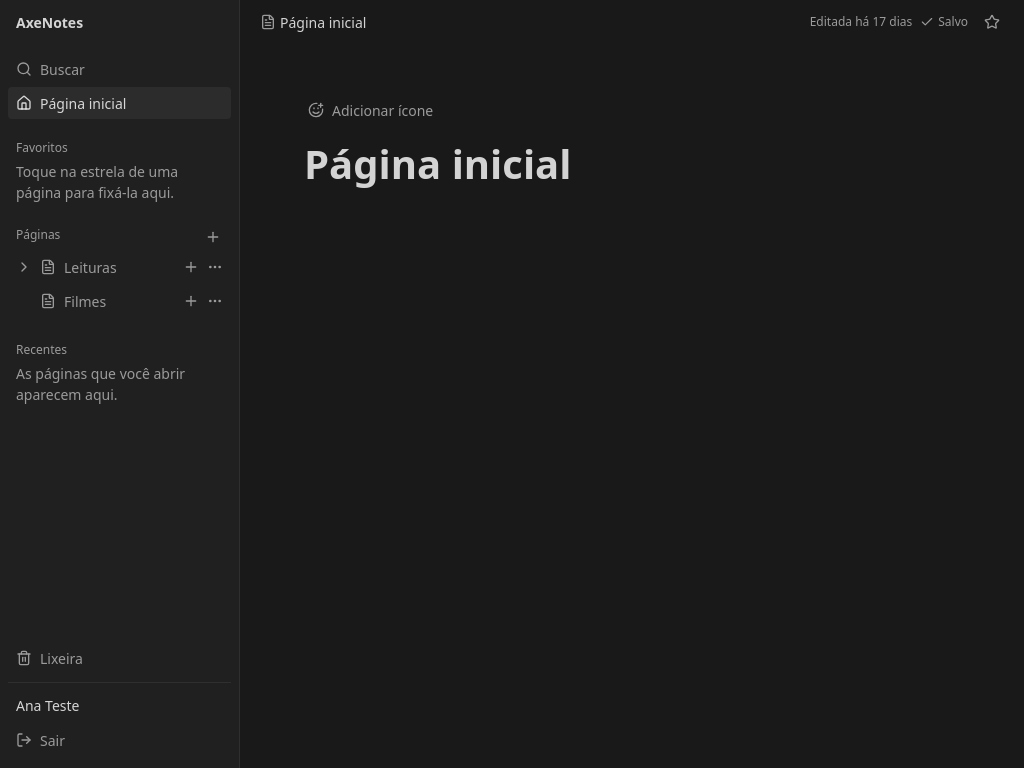
Test: mover para a lixeira pela árvore › explains missing permission with its own message
Click the button named "Mais ações de Filmes".
click(215, 301)  # box x1=203 y1=287 x2=227 y2=315
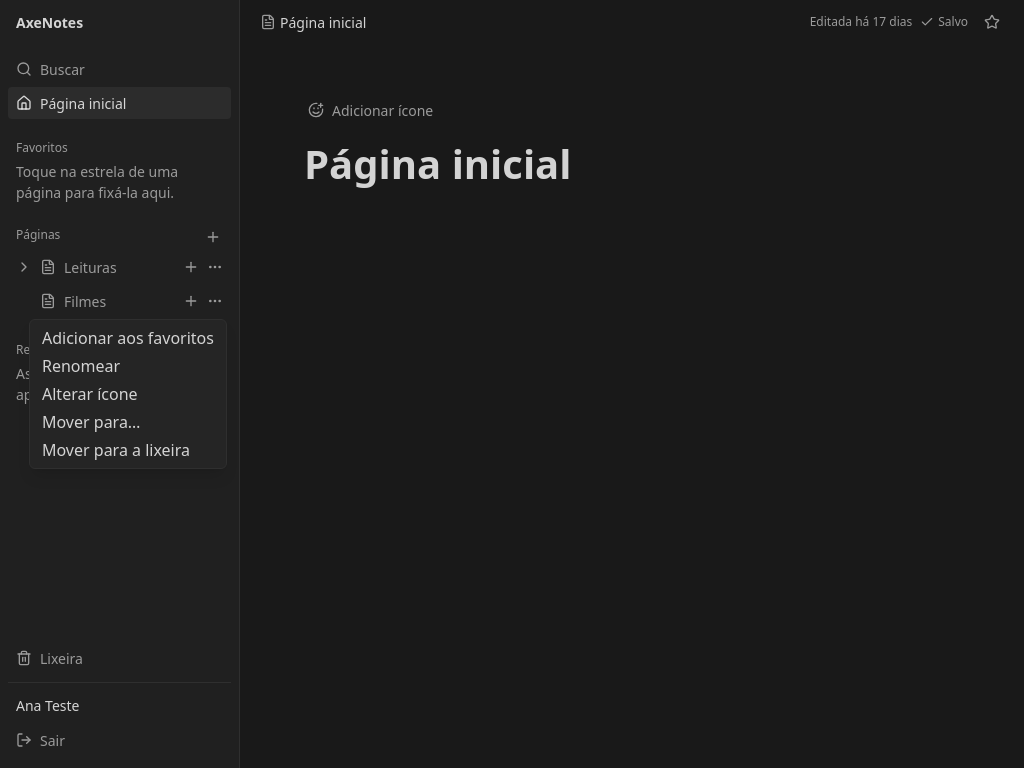
Click the menu item "Mover para a lixeira".
click(116, 450)  # box x1=42 y1=439 x2=190 y2=461
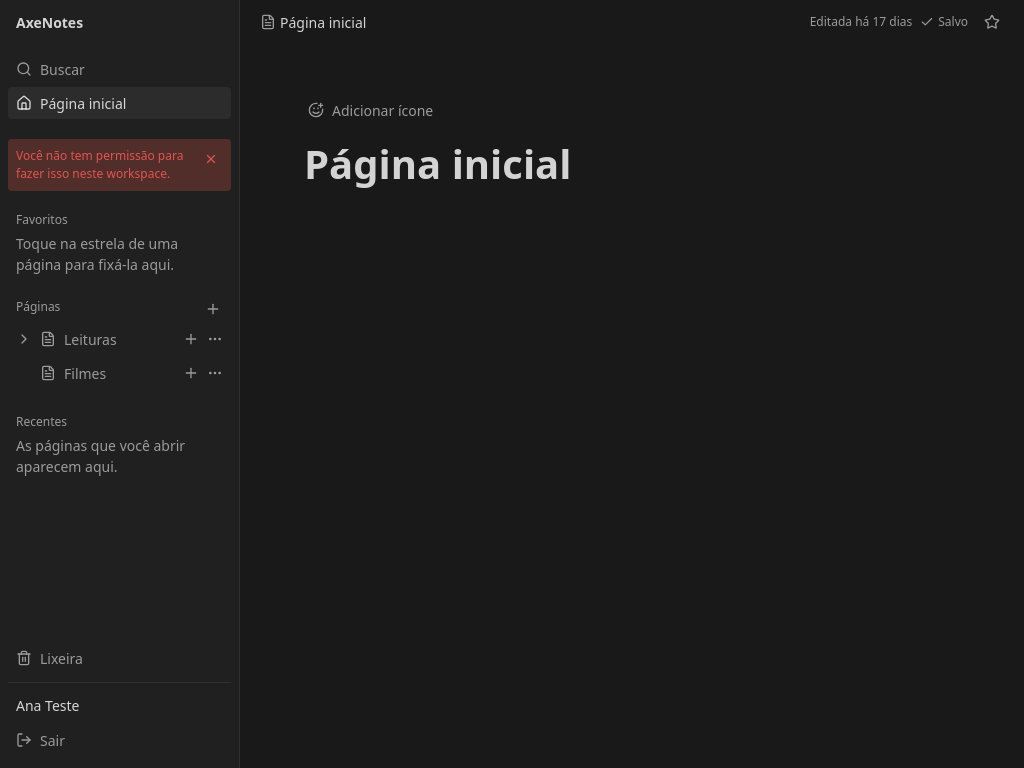
Expected: the list item "Filmes" is shown, x1=40 y1=359 x2=227 y2=387
Now the message "Você não tem permissão para fazer isso neste workspace." is shown, box x1=8 y1=139 x2=231 y2=191
